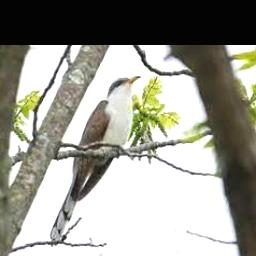Cuckoo: (51, 75, 143, 241)
